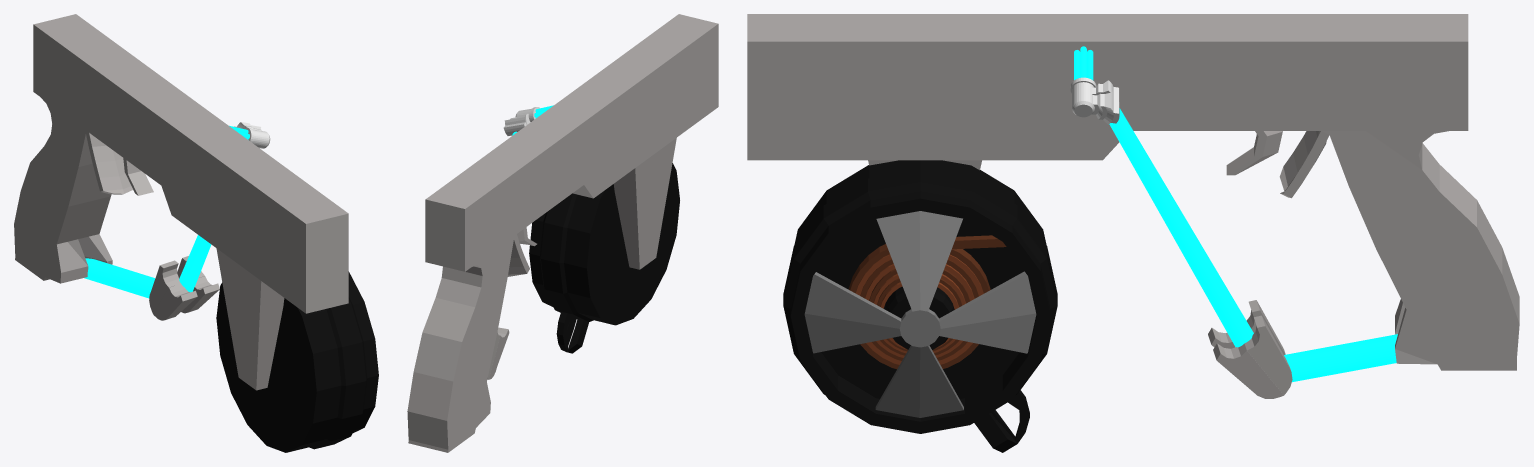
The model's file is grappleV2.fbx.
3 renders of one model, left to right at view 1: azimuth 30°, elevation 25°; view 2: azimuth 150°, elevation 25°; view 3: azimuth 270°, elevation 25°, orthographic. The views are drawn at different scales.
Visible parts, largest first — view 1: MainGun, MainReel, AnglePiece, BlueBeam, Cylinder.004, BBBHold2; view 2: MainGun, MainReel, AnglePiece, BBBHold2; view 3: MainGun, MainReel, ReelOutside, Cylinder.004, AnglePiece, BlueBeam, BBBHold2, rope.007, rope.006, rope.005.
Boxes of the visible parts, x1,y1,x2,y2 form: MainGun: [14, 14, 348, 390]; MainReel: [216, 271, 378, 452]; AnglePiece: [149, 256, 219, 320]; BlueBeam: [84, 258, 155, 298]; Cylinder.004: [179, 235, 211, 292]; BBBHold2: [234, 122, 270, 148]; MainGun: [407, 14, 718, 452]; MainReel: [529, 163, 679, 353]; AnglePiece: [487, 327, 509, 379]; BBBHold2: [503, 108, 531, 135]; MainGun: [747, 14, 1519, 370]; MainReel: [783, 160, 1057, 452]; ReelOutside: [804, 211, 1036, 417]; Cylinder.004: [1109, 108, 1253, 347]; AnglePiece: [1208, 300, 1292, 398]; BlueBeam: [1284, 334, 1397, 382]; BBBHold2: [1072, 80, 1119, 124]; rope.007: [848, 244, 990, 369]; rope.006: [855, 254, 983, 364]; rope.005: [860, 259, 978, 360].
Bounding box in the file's own units: 515 × 1339 × 2369.
